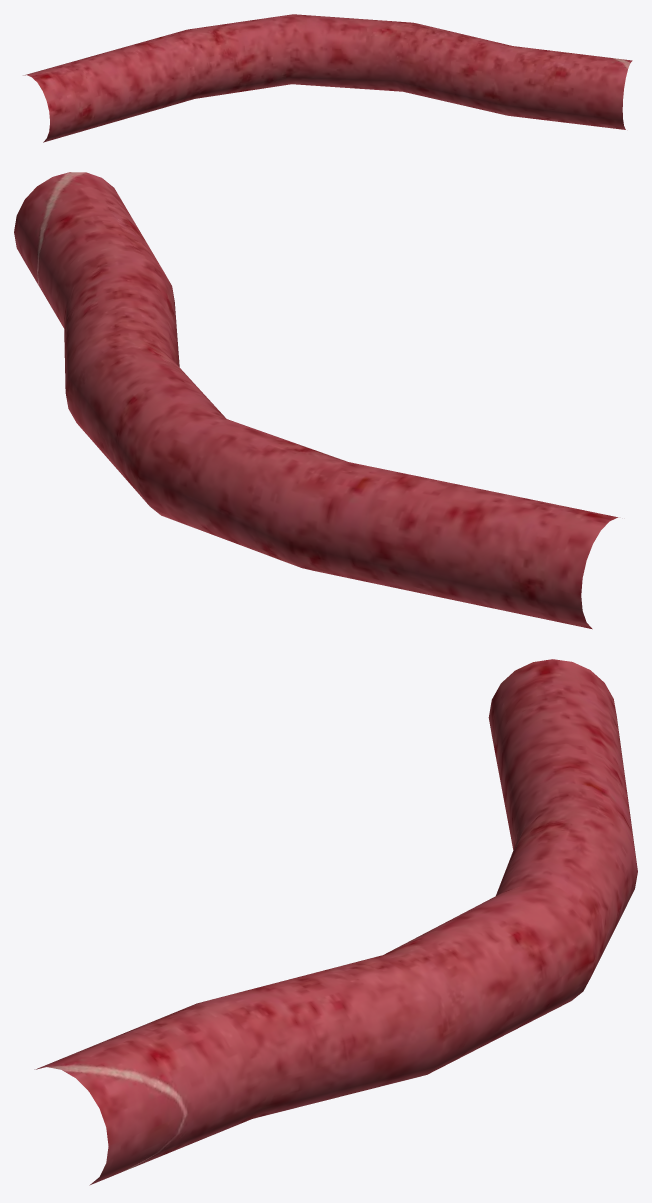
The model's file is Renal_Vein.glb.
3 renders of one model, top to bottom at view 1: azimuth 30°, elevation 25°; view 2: azimuth 150°, elevation 25°; view 3: azimuth 270°, elevation 25°, orthographic. The views are drawn at different scales.
Visible parts, largest first — view 1: renal_vein1; view 2: renal_vein1; view 3: renal_vein1.
Boxes of the visible parts, x1,y1,x2,y2 form: renal_vein1: (23, 14, 632, 142); renal_vein1: (14, 172, 618, 629); renal_vein1: (34, 659, 637, 1185).
Bounding box in the file's own units: 25.87 × 3.26 × 15.89.
Materials: 1 (1 with a texture image).
